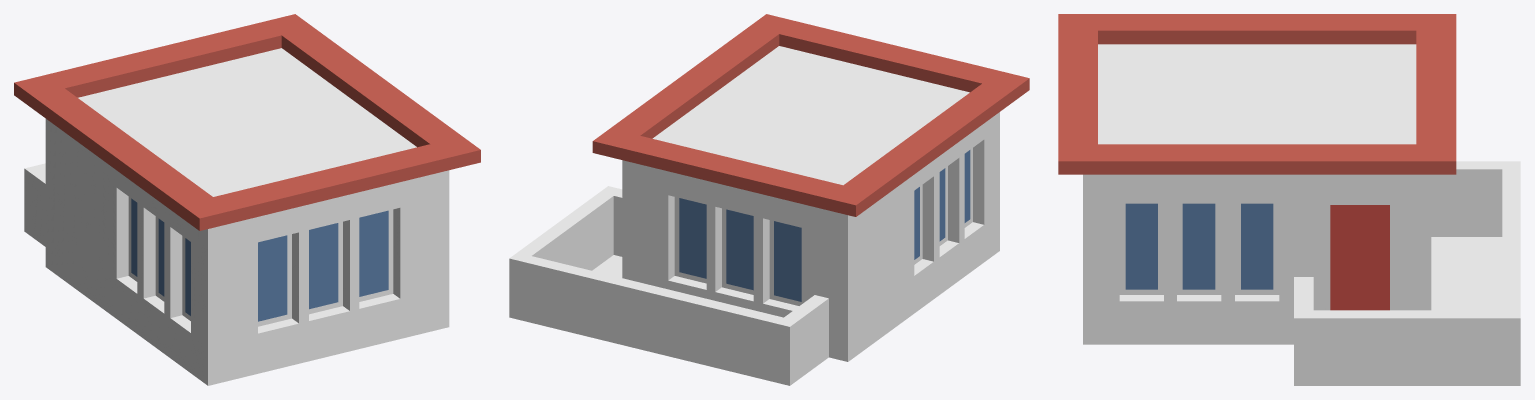
File: commercial_house_01.fbx
3 renders of one model, left to right at view 1: azimuth 30°, elevation 25°; view 2: azimuth 150°, elevation 25°; view 3: azimuth 270°, elevation 25°, orthographic. The views are drawn at different scales.
Parts seen in each view (by area): view 1: Box330; view 2: Box330; view 3: Box330.
Part boxes in pixels (<box>): Box330: <box>14,14,480,385</box>; Box330: <box>509,14,1029,385</box>; Box330: <box>1058,14,1520,385</box>.
Bounding box in the file's own units: 847 × 430 × 930.
Materials: 1 (1 with a texture image).
